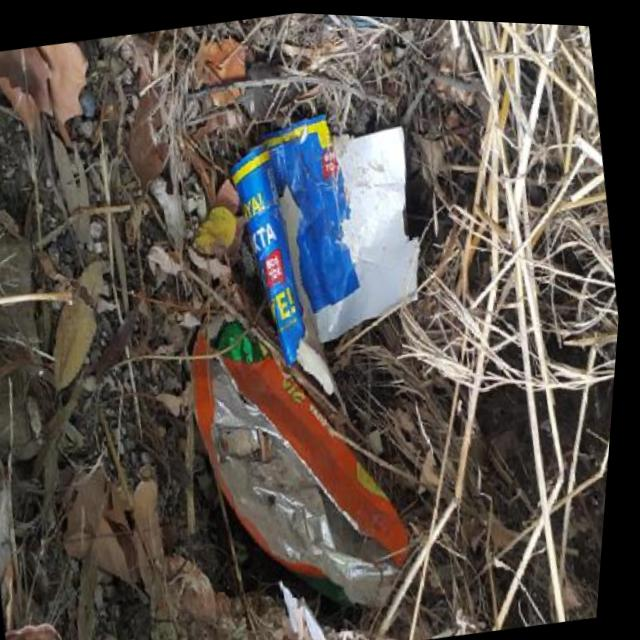paper: (52, 191, 348, 425)
plastic: (234, 194, 608, 466)
